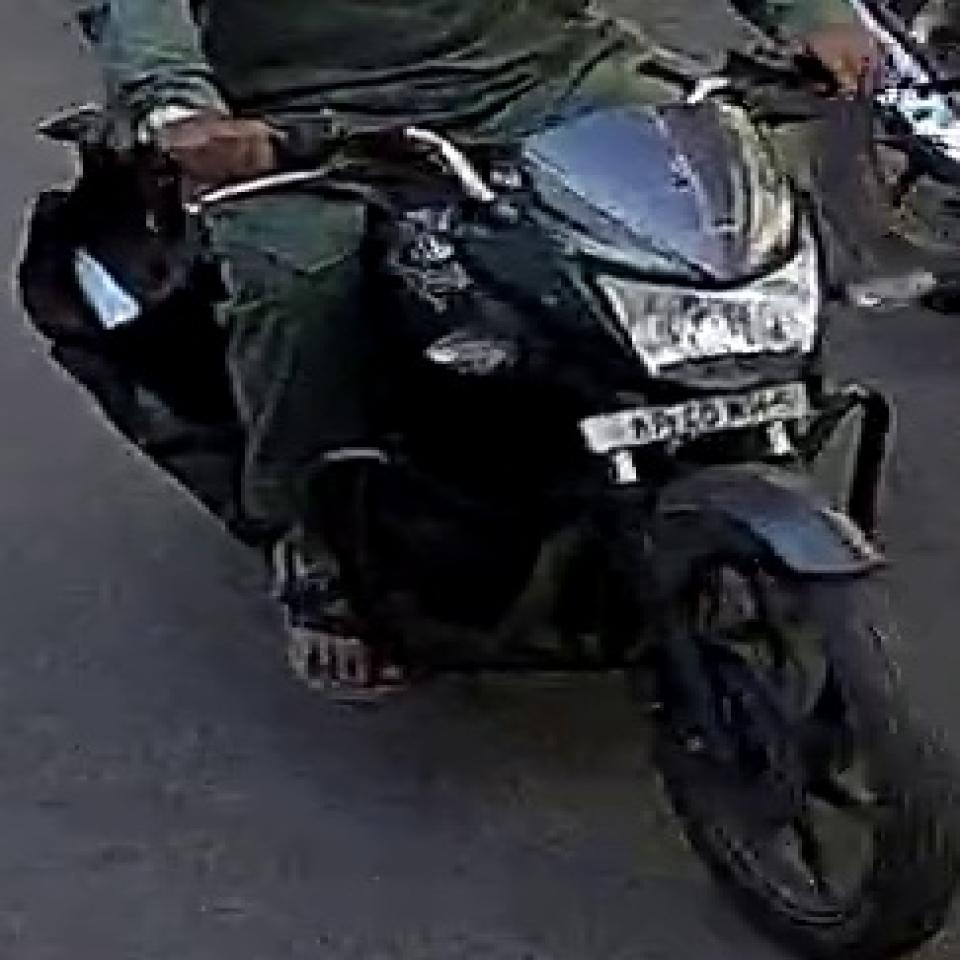head_light: (600, 245, 832, 376)
